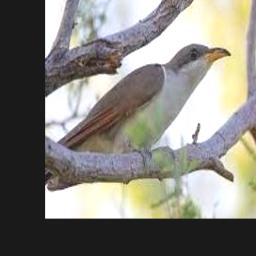Cuckoo: (56, 43, 230, 159)
